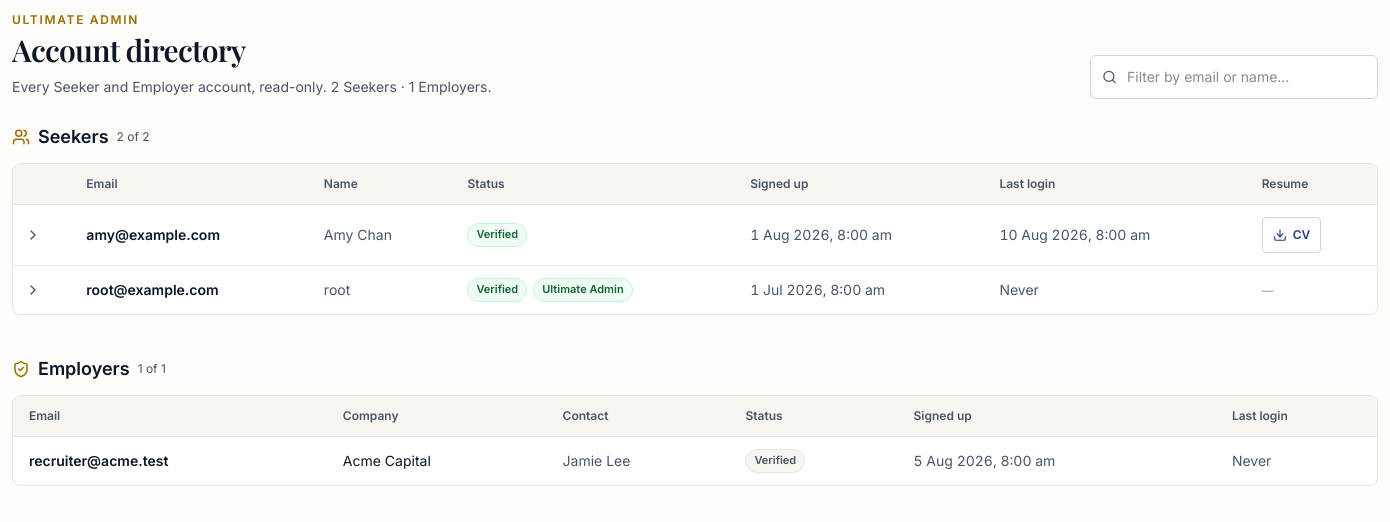
AccountsDirectory resume download › shows the reason a download was refused instead of failing silently
Click the button with aria-label "Download the resume on file for amy@example.com" at coordinates (1292, 235), box x1=1262 y1=217 x2=1321 y2=253
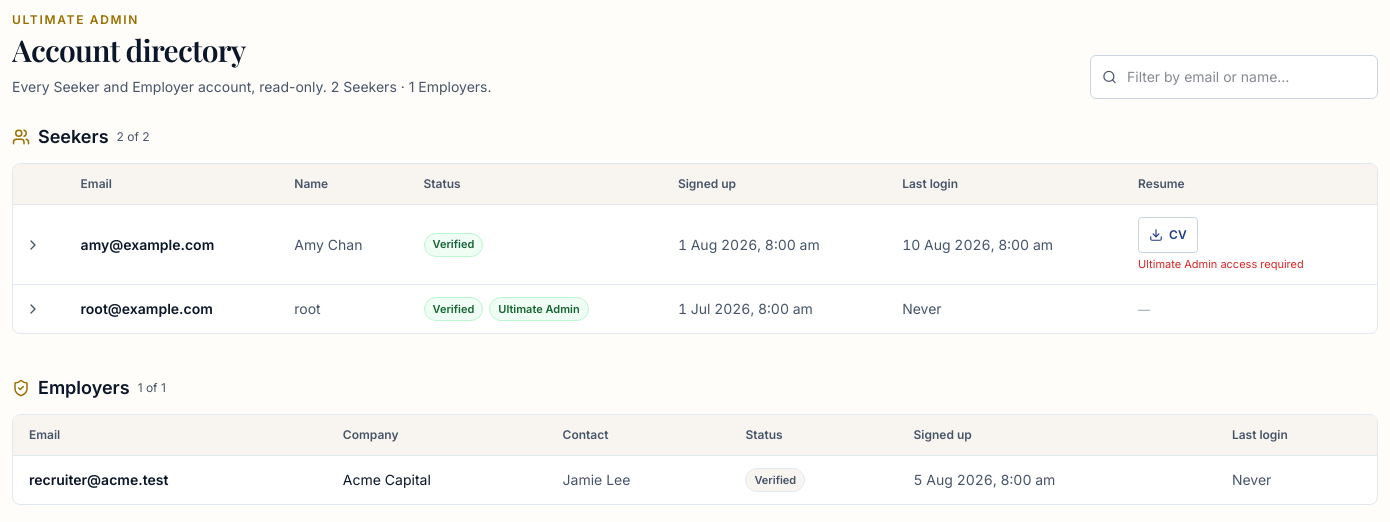
Expected: the message reads "Ultimate Admin access required", x1=1138 y1=257 x2=1304 y2=271
